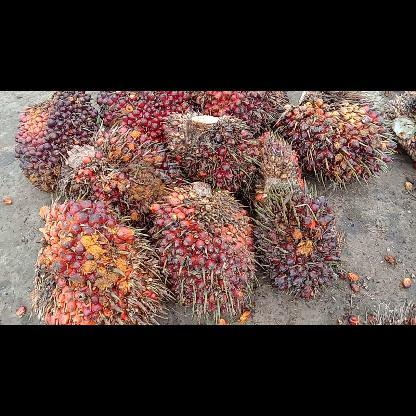TBS masak: (36, 202, 168, 324), (155, 185, 261, 319), (282, 90, 396, 188), (66, 128, 186, 216), (256, 185, 344, 301), (15, 91, 99, 193), (164, 113, 260, 193), (95, 91, 196, 147), (194, 91, 288, 133), (257, 130, 308, 196)
